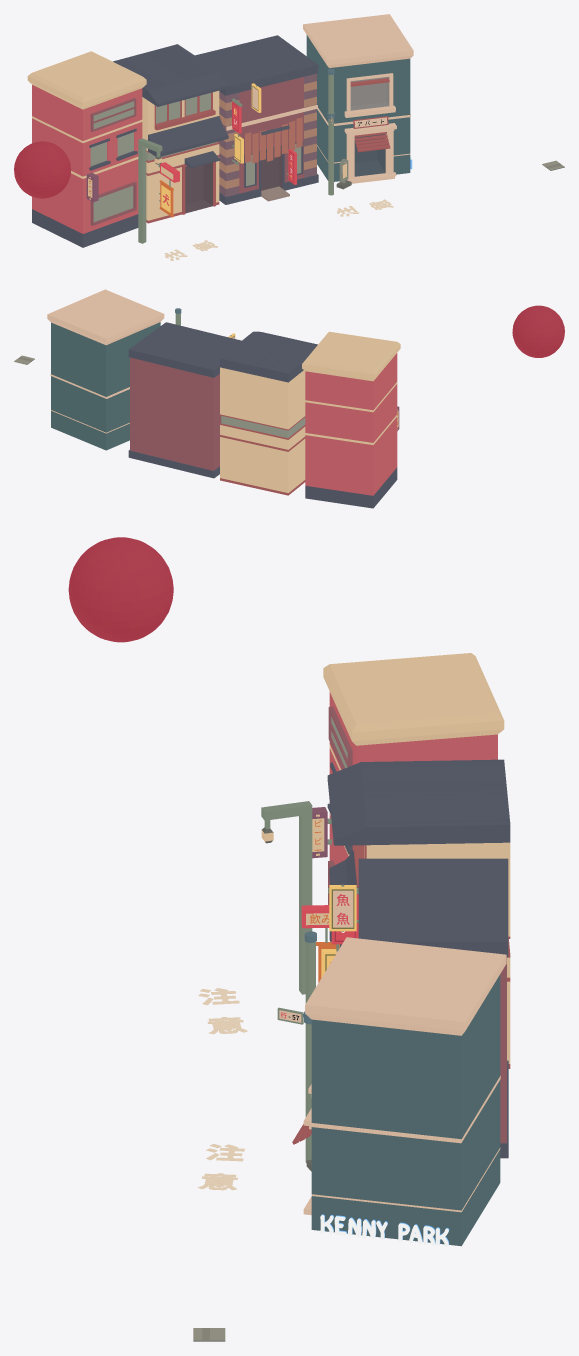
The model's file is Neon_Street.glb.
3 views of the same model, one above another, from view 1: azimuth 30°, elevation 25°; view 2: azimuth 150°, elevation 25°; view 3: azimuth 270°, elevation 25° (orthographic). The views are drawn at different scales.
Visible parts, largest first — view 1: Building 4, Building 1, Building 3, Building 2, Sphere, Pillar Left, Wood Plank Things, Pillar Right, Street Light, Street Sign, Building 1 Shades, Sign Orange (+2 smaller); view 2: Building 4, Building 3, Building 2, Building 1, Sphere; view 3: Building 1, Building 3, Building 4, Building 2, Sphere, Street Light, Street Sign, Signature, Sign Yellow.001, Road Text, Road Text.001.
Boxes of the visible parts, bbox=[...] form: Building 4: bbox=[27, 51, 146, 247]; Building 1: bbox=[303, 14, 413, 183]; Building 3: bbox=[113, 44, 228, 223]; Building 2: bbox=[195, 35, 318, 204]; Sphere: bbox=[14, 141, 70, 198]; Pillar Left: bbox=[218, 91, 239, 196]; Wood Plank Things: bbox=[245, 117, 302, 163]; Pillar Right: bbox=[304, 73, 316, 177]; Street Light: bbox=[138, 138, 162, 243]; Street Sign: bbox=[327, 69, 334, 195]; Building 1 Shades: bbox=[354, 132, 390, 152]; Sign Orange: bbox=[159, 180, 173, 217]; Building 4: bbox=[302, 331, 400, 508]; Building 3: bbox=[220, 331, 317, 495]; Building 2: bbox=[128, 322, 241, 478]; Building 1: bbox=[47, 289, 164, 450]; Sphere: bbox=[512, 305, 564, 357]; Building 1: bbox=[303, 937, 506, 1246]; Building 3: bbox=[327, 759, 510, 1068]; Building 4: bbox=[323, 653, 504, 941]; Building 2: bbox=[358, 858, 508, 1158]; Sphere: bbox=[68, 537, 173, 642]; Street Light: bbox=[261, 801, 312, 994]; Street Sign: bbox=[277, 931, 316, 1162]; Signature: bbox=[320, 1214, 449, 1247]; Sign Yellow.001: bbox=[329, 885, 356, 931]; Road Text: bbox=[198, 1144, 244, 1190]; Road Text.001: bbox=[198, 988, 247, 1034].
Size of the model in its own units: 34.76 by 10.04 by 12.75.
